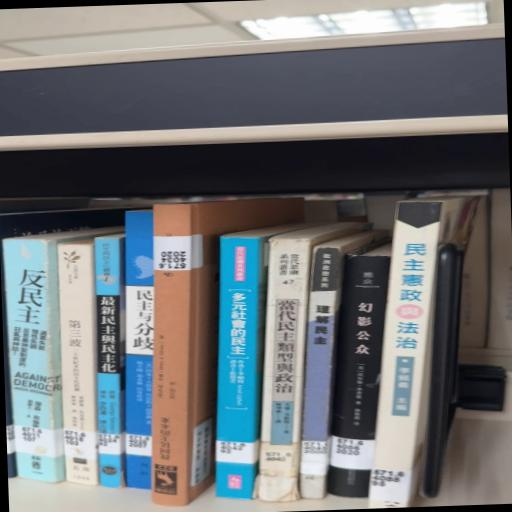reverse: (152, 199, 304, 507)
